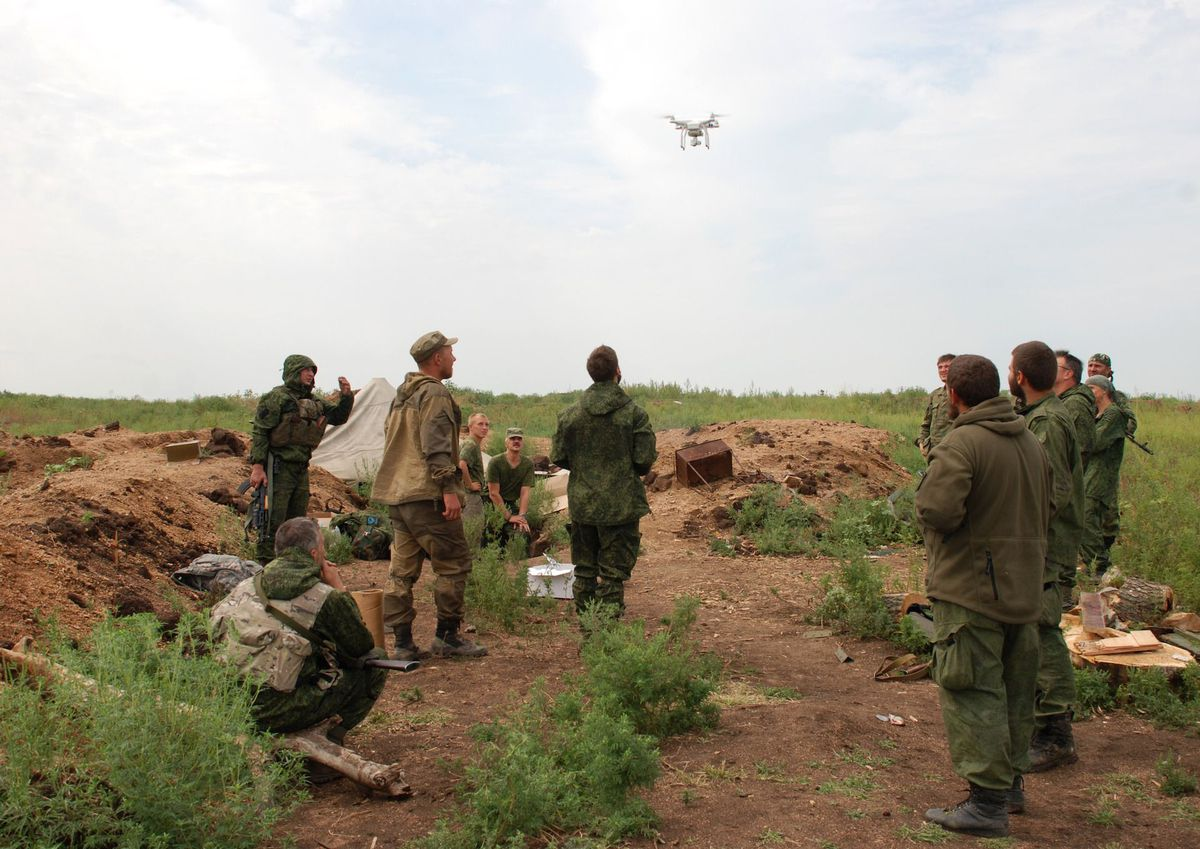drone: (656, 111, 734, 153)
person: (912, 358, 1058, 824), (208, 520, 390, 769), (374, 330, 487, 667), (553, 344, 660, 649), (1008, 340, 1075, 797), (247, 357, 365, 576), (1040, 349, 1087, 615), (916, 352, 977, 518), (457, 411, 498, 590), (490, 423, 536, 558)
